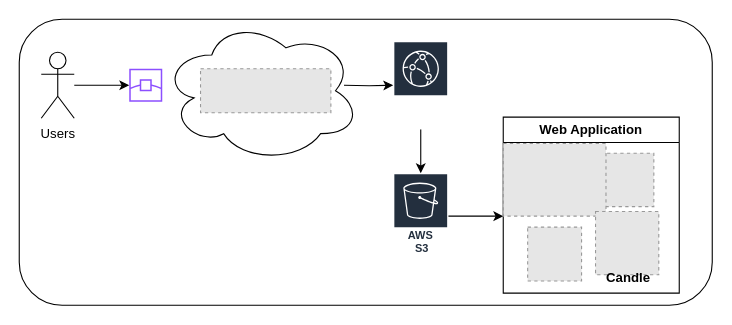
Image size: 732x325. Some labels were removed from this diagram. Grey dashed boxes stand in for pictures. The box of each missing label's shape, as (x1, y1, x2, y2) in pixels:
AWS Cloudfront: (392, 40, 448, 129)
Cloudflare Edge: (129, 68, 162, 101)
